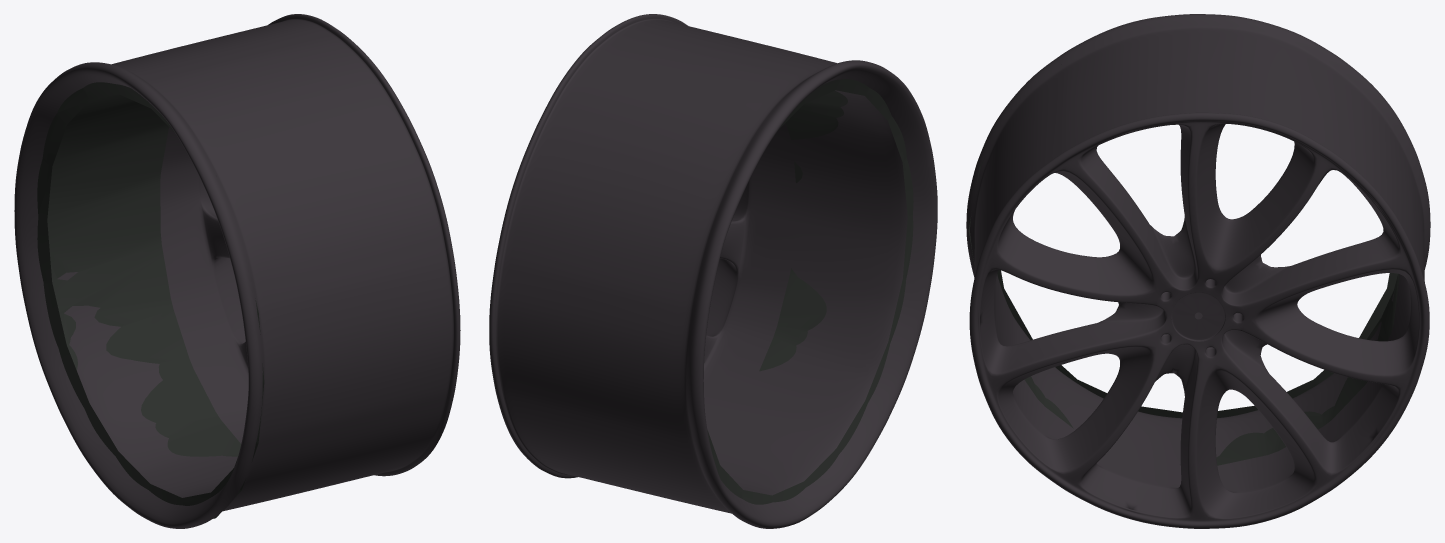
The model's file is frontright1.glb.
3 views of the same model, side by side, from view 1: azimuth 30°, elevation 25°; view 2: azimuth 150°, elevation 25°; view 3: azimuth 270°, elevation 25° (orthographic). The views are drawn at different scales.
Visible parts, largest first — view 1: Front Right Wheel; view 2: Front Right Wheel; view 3: Front Right Wheel.
Part boxes in pixels (box(x1,y1,x2,y2)): Front Right Wheel: box(14, 14, 460, 528); Front Right Wheel: box(489, 14, 937, 528); Front Right Wheel: box(966, 14, 1430, 528).
Bounding box in the file's own units: 0.3042 × 0.5816 × 0.5828.
Materials: 1 (1 with a texture image).
